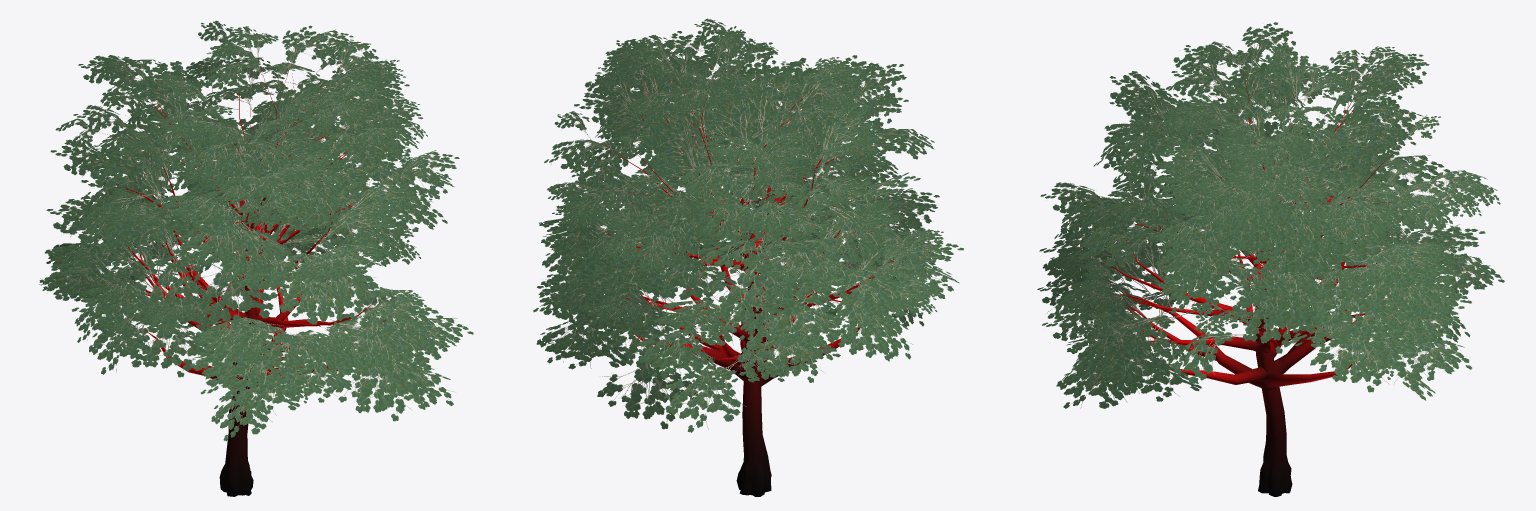
Rendered from tree01.fbx.
3 views of the same model, side by side, from view 1: azimuth 30°, elevation 25°; view 2: azimuth 150°, elevation 25°; view 3: azimuth 270°, elevation 25° (orthographic).
Visible parts, largest first — view 1: tree06_LOD0; view 2: tree06_LOD0; view 3: tree06_LOD0.
Part boxes in pixels (x1,y1,x2,y2): tree06_LOD0: (39,20,473,496); tree06_LOD0: (533,18,963,496); tree06_LOD0: (1037,22,1504,496).
Size of what is drawn, in the model's own units: 1388 by 1469 by 1479.
